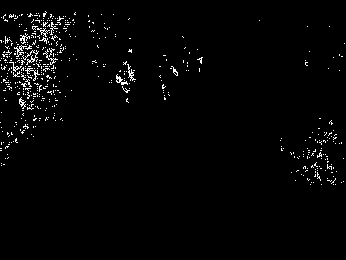person: (114, 59, 136, 105)
